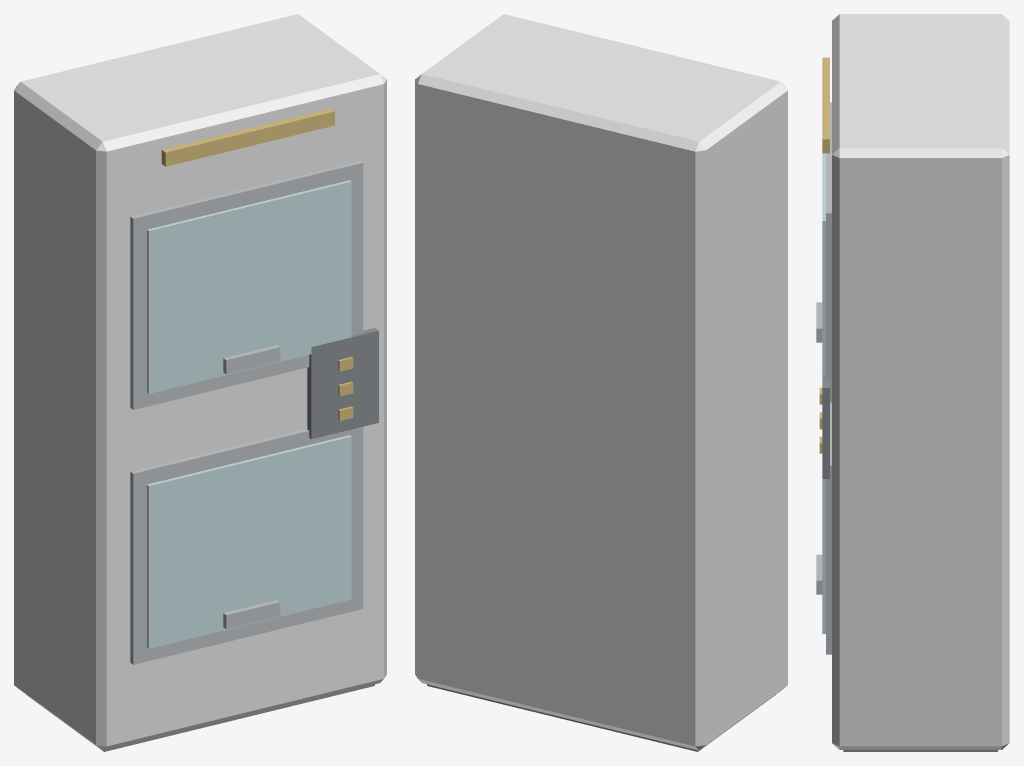
The model's file is P_pass_box.fbx.
3 views of the same model, side by side, from view 1: azimuth 30°, elevation 25°; view 2: azimuth 150°, elevation 25°; view 3: azimuth 270°, elevation 25° (orthographic).
Visible parts, largest first — view 1: P_pass_box; view 2: P_pass_box; view 3: P_pass_box.
Boxes of the visible parts, bbox=[...] form: P_pass_box: bbox=[14, 14, 386, 751]; P_pass_box: bbox=[415, 14, 787, 751]; P_pass_box: bbox=[816, 14, 1009, 751].
Bounding box in the file's own units: 0.86 × 1.73 × 0.5.
